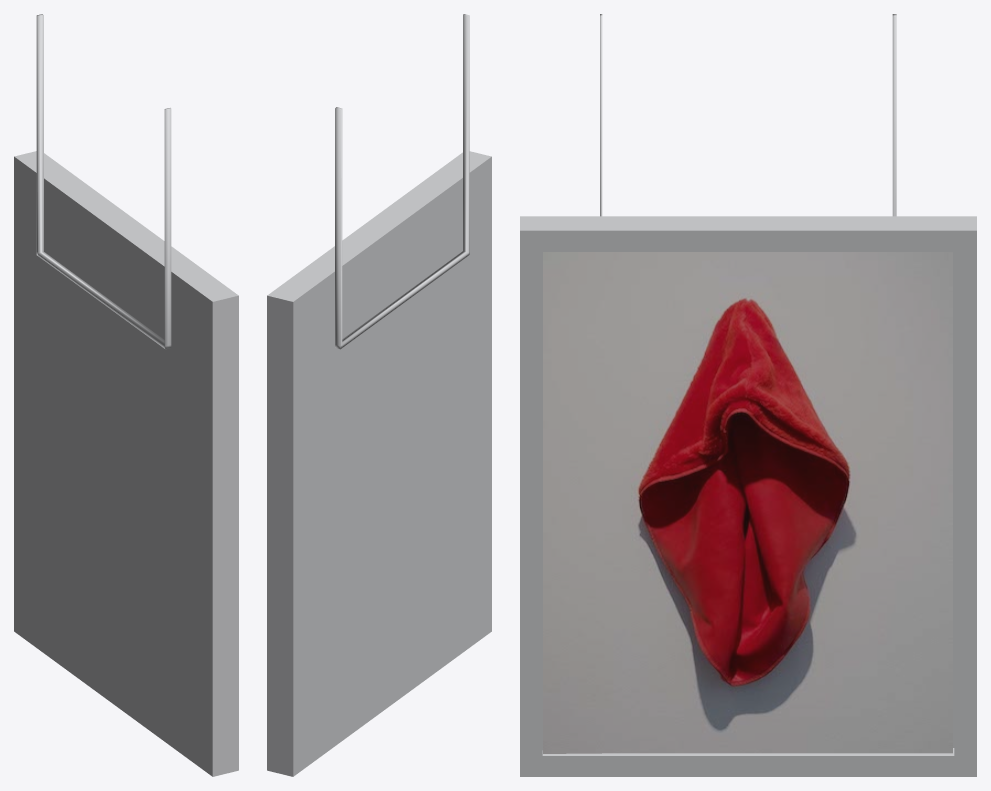
The picture shows the model from 3 angles, left to right: view 1: azimuth 30°, elevation 25°; view 2: azimuth 150°, elevation 25°; view 3: azimuth 270°, elevation 25°; orthographic projection. The views are drawn at different scales.
Visible parts, largest first — view 1: F0136608; view 2: F0136608; view 3: F0136608.
Boxes of the visible parts, box(x1,y1,x2,y2) form: F0136608: box(14, 14, 238, 776); F0136608: box(267, 14, 491, 776); F0136608: box(520, 14, 976, 776).
Size of the model in its own units: 0.2284 by 3.65 by 2.04.
2 materials, 1 textured.
